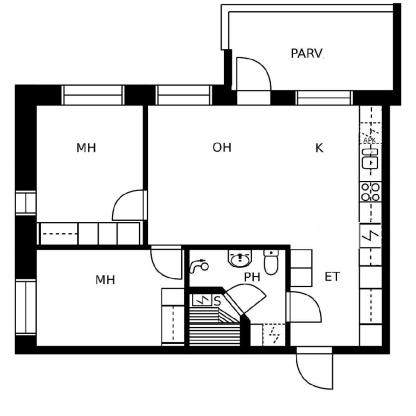door: (234, 57, 274, 107), (295, 346, 335, 391), (224, 278, 267, 318), (150, 247, 188, 285), (284, 291, 324, 327), (113, 186, 151, 222)
window: (14, 277, 36, 336), (61, 85, 125, 105), (293, 86, 355, 106), (156, 84, 213, 104), (15, 189, 35, 217)
zone: (150, 106, 384, 348), (36, 106, 145, 242), (36, 249, 185, 348), (230, 11, 392, 90), (189, 250, 283, 344)
